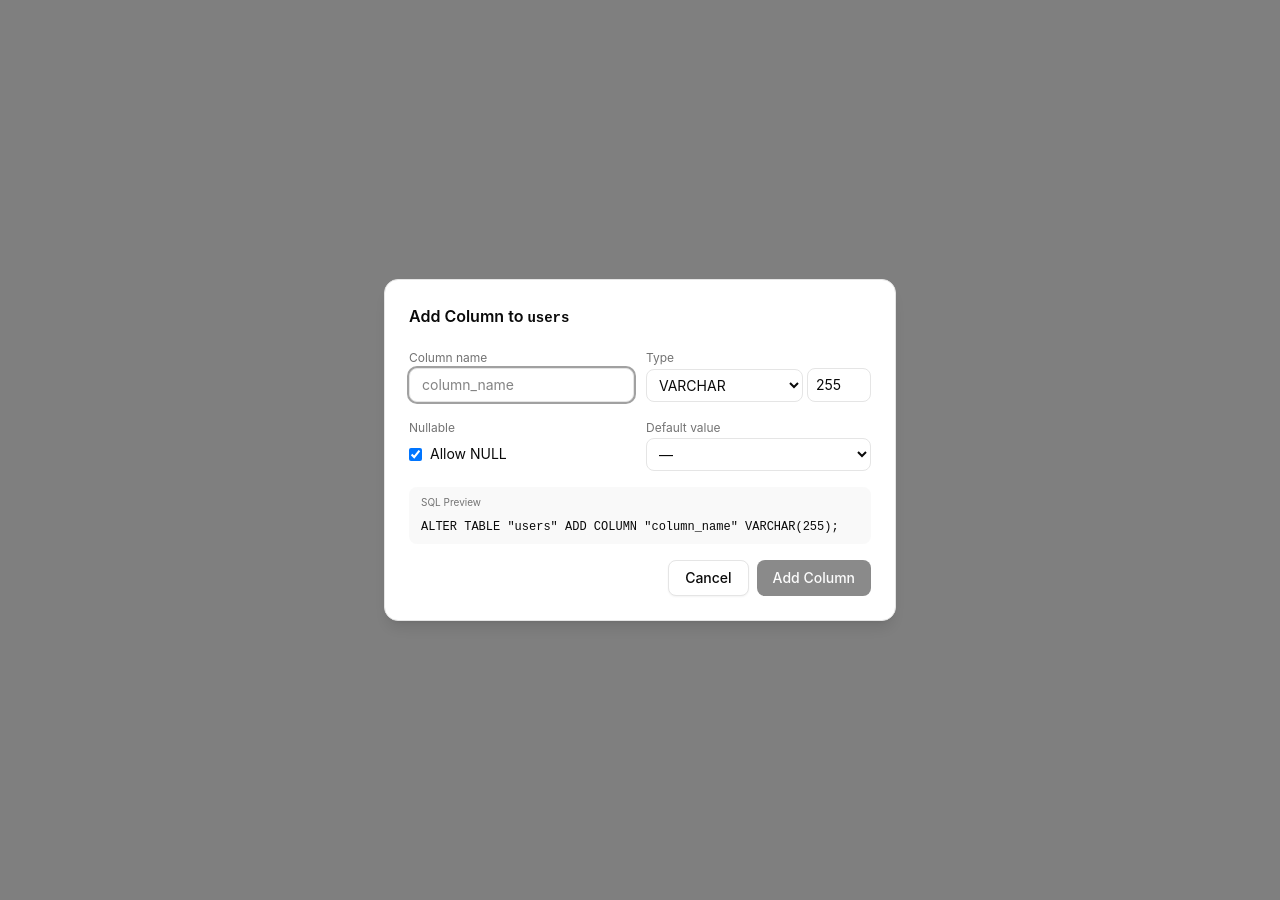
Test: SQL preview — postgres quoting › uses typed column name in SQL
Type "email" into the field with placeholder "column_name".
click(522, 385); type("email")  # box [409, 368, 634, 402]
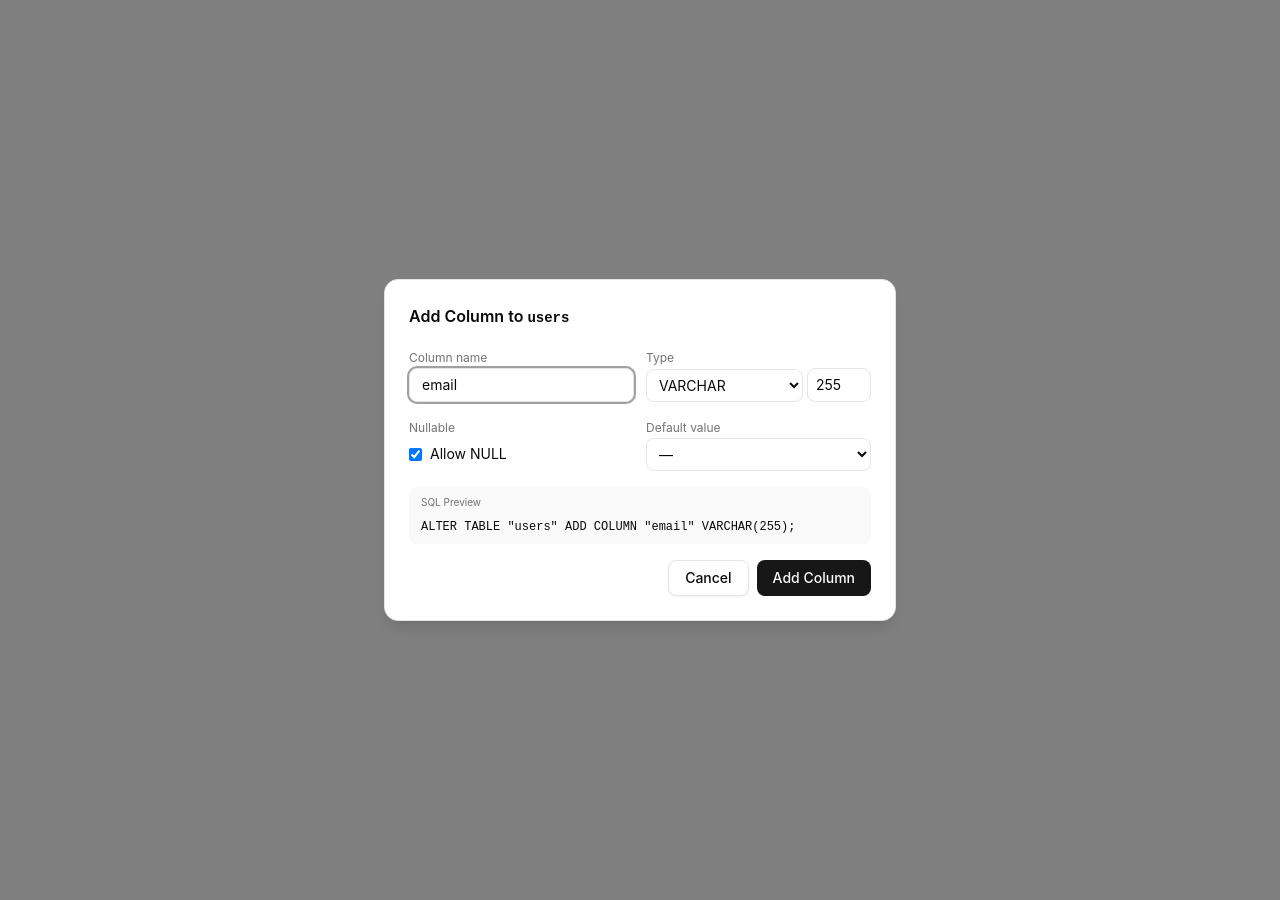
Result: the text "ALTER TABLE \"users\" ADD COLUMN \"email\" VARCHAR(255);" is shown at [421, 520, 796, 534]
